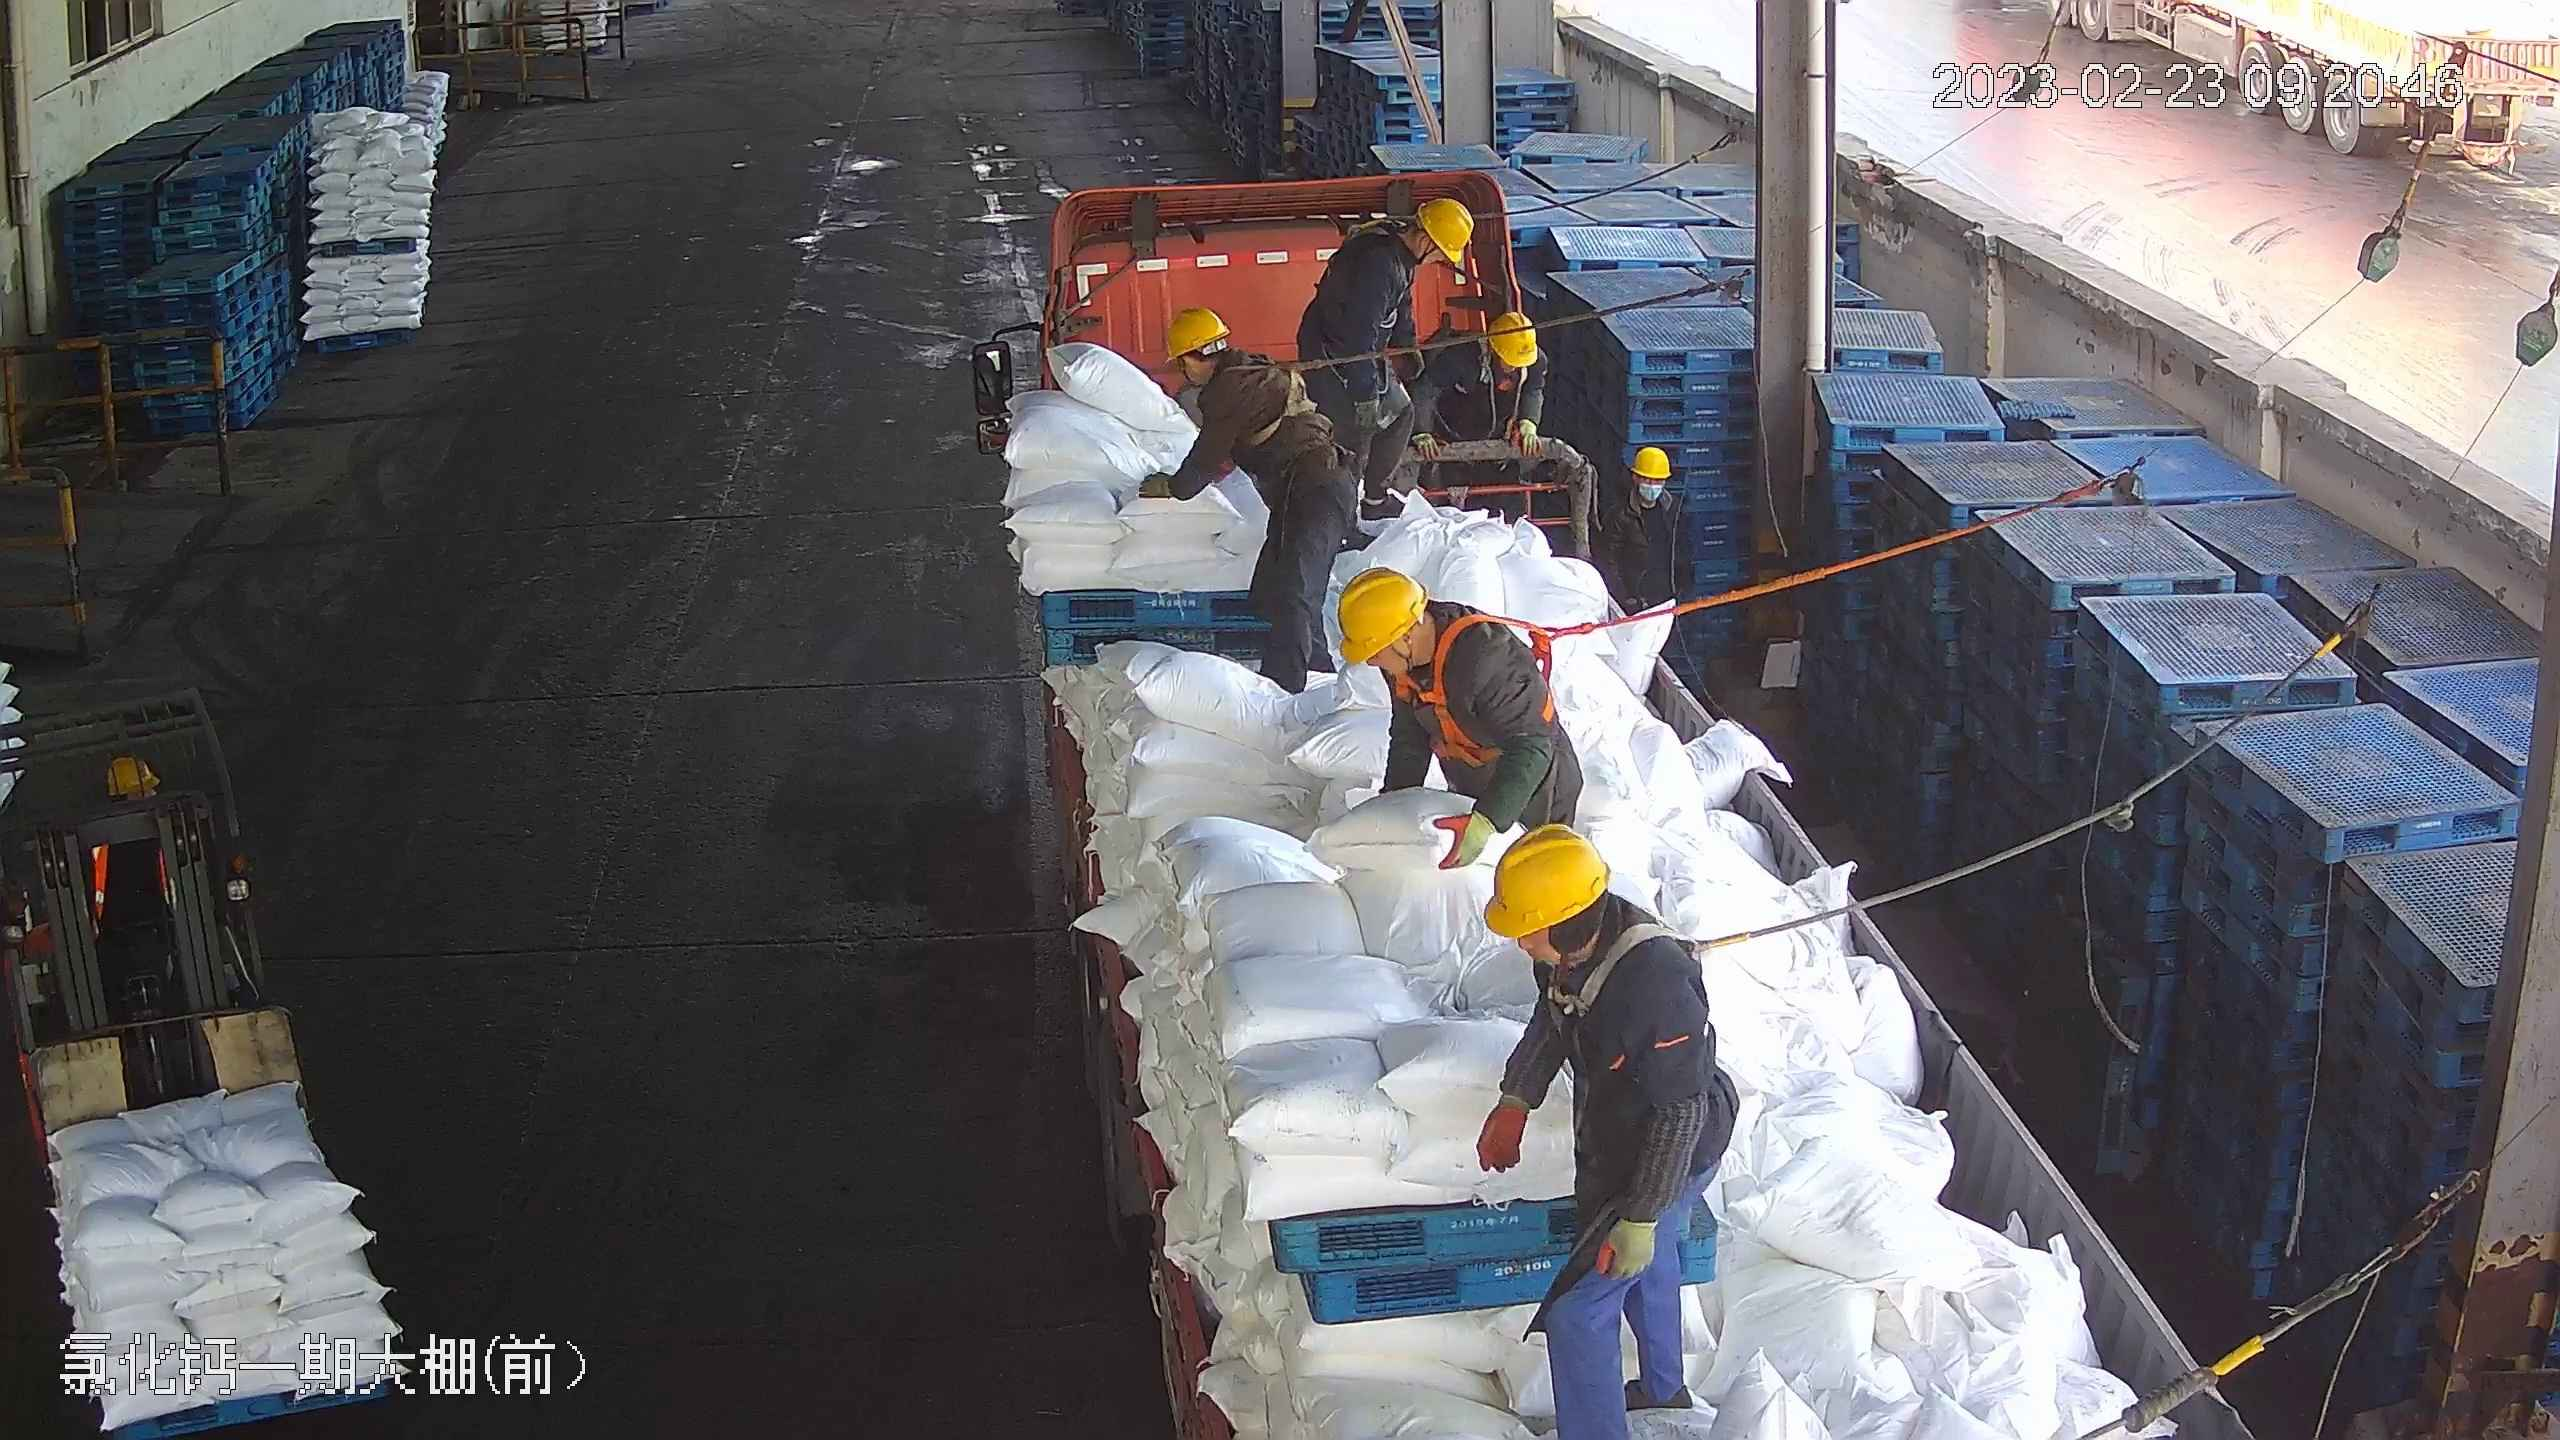belt: (1401, 602, 1569, 779), (1542, 903, 1724, 1054), (1226, 337, 1324, 447), (1321, 217, 1403, 245)
head: (1479, 821, 1719, 1012), (1335, 566, 1531, 696), (1164, 303, 1307, 402), (1331, 195, 1468, 281), (1442, 305, 1540, 388), (1612, 444, 1688, 531)
helmet: (1481, 821, 1612, 933), (1330, 563, 1430, 663), (1416, 190, 1479, 263), (1158, 299, 1234, 360), (1484, 307, 1544, 368), (1627, 441, 1674, 480)
people: (1479, 824, 1736, 1436), (1160, 297, 1357, 698)
truck: (984, 154, 2240, 1440)
